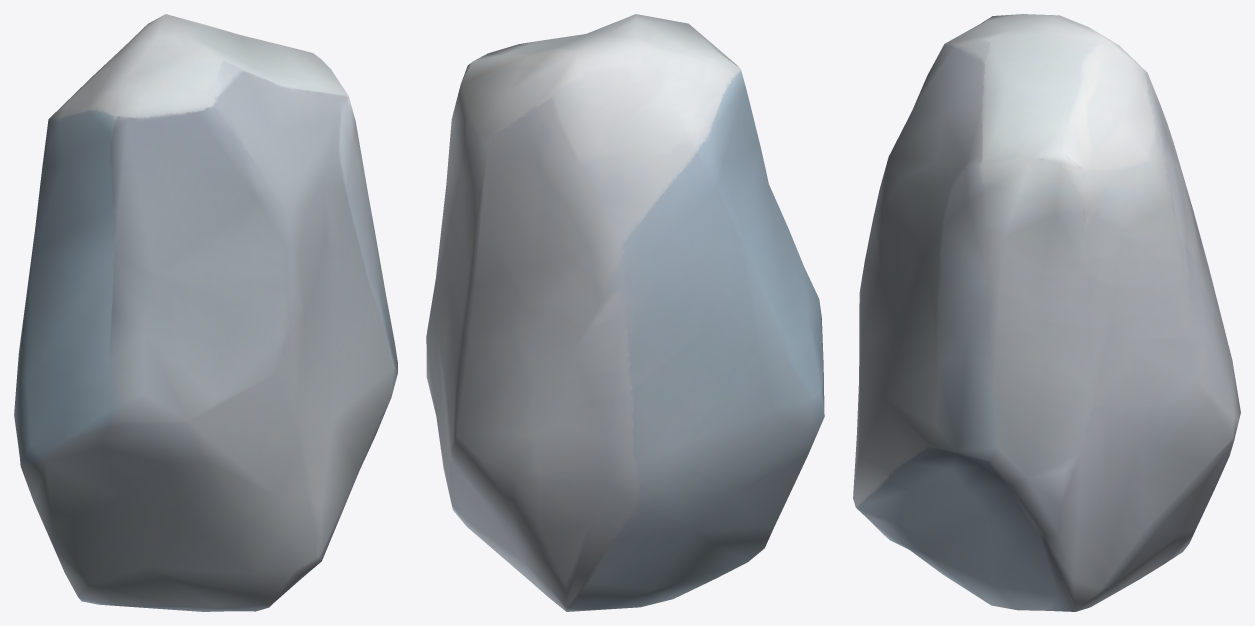
File: floating-rock.glb
The picture shows the model from 3 angles, left to right: view 1: azimuth 30°, elevation 25°; view 2: azimuth 150°, elevation 25°; view 3: azimuth 270°, elevation 25°; orthographic projection. The views are drawn at different scales.
Visible parts, largest first — view 1: geometry_0.001; view 2: geometry_0.001; view 3: geometry_0.001.
Boxes of the visible parts, x1,y1,x2,y2 form: geometry_0.001: [14, 14, 397, 611]; geometry_0.001: [426, 14, 824, 611]; geometry_0.001: [853, 14, 1240, 611].
Bounding box in the file's own units: 0.6919 × 1 × 0.6246.
Materials: 1 (1 with a texture image).
